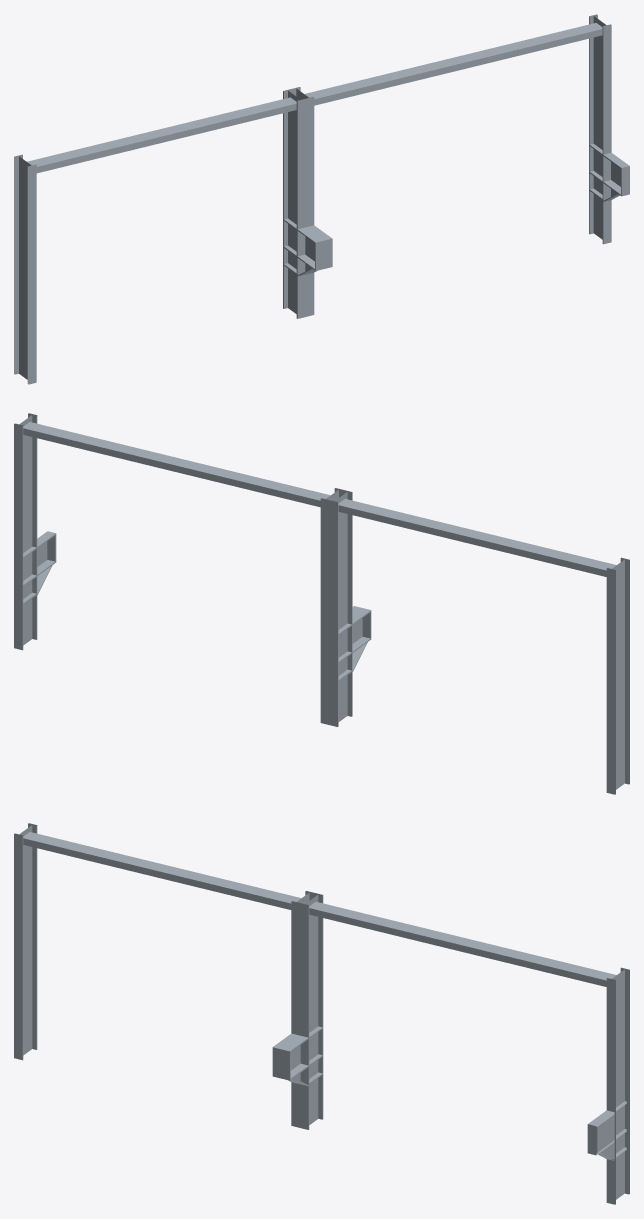
The model's file is SM06_Building_Structure_Wall_Top_01_Corner.fbx.
3 views of the same model, one above another, from view 1: azimuth 30°, elevation 25°; view 2: azimuth 150°, elevation 25°; view 3: azimuth 330°, elevation 25° (orthographic). The views are drawn at different scales.
Parts seen in each view (by area): view 1: SM06_Building_Structure_Wall_Top_01_Corner; view 2: SM06_Building_Structure_Wall_Top_01_Corner; view 3: SM06_Building_Structure_Wall_Top_01_Corner.
Boxes of the visible parts, left/top/right/bottom form: SM06_Building_Structure_Wall_Top_01_Corner: left=14, top=14, right=629, bottom=384; SM06_Building_Structure_Wall_Top_01_Corner: left=14, top=413, right=629, bottom=794; SM06_Building_Structure_Wall_Top_01_Corner: left=14, top=823, right=629, bottom=1204.
Size of the model in its own units: 13.83 by 4.93 by 1.34.
